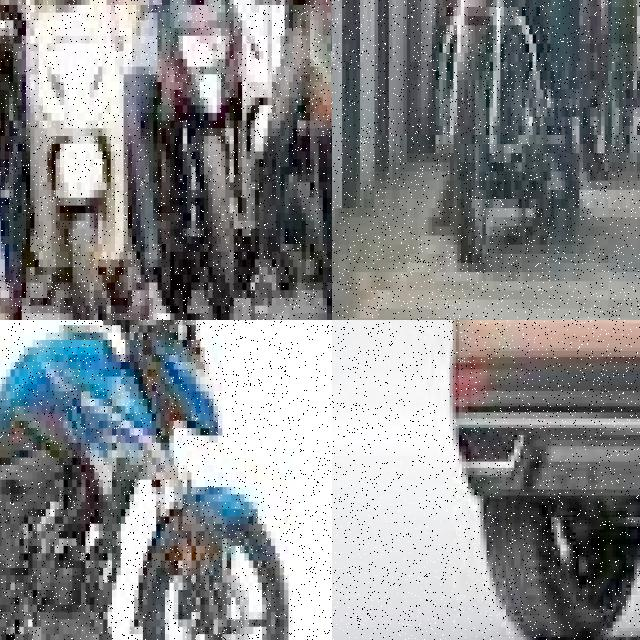bike: (0, 320, 301, 640), (149, 0, 276, 320), (432, 0, 586, 262), (17, 0, 140, 320), (293, 0, 332, 313)
car: (422, 320, 640, 640)
